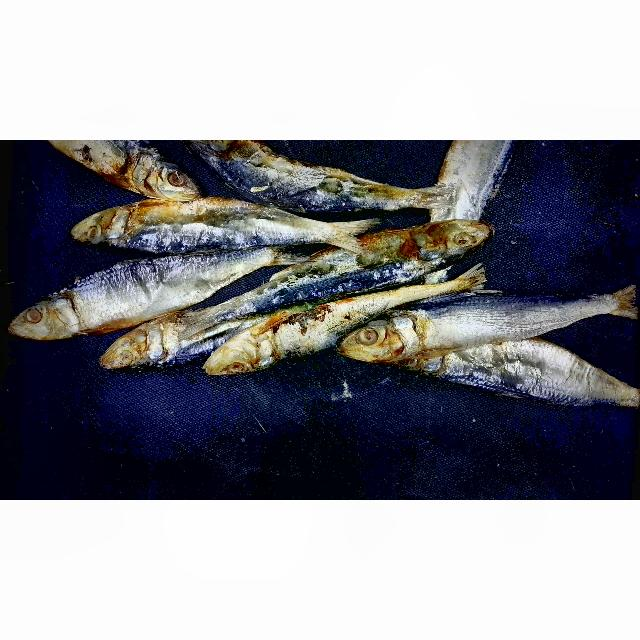Grade_B_Body: (252, 224, 414, 316), (452, 325, 584, 407), (83, 252, 229, 323), (233, 140, 364, 219), (278, 289, 419, 351), (421, 290, 572, 347), (157, 193, 280, 247)
Grade_B_Head: (9, 282, 89, 363), (194, 320, 286, 379), (63, 197, 142, 259), (331, 310, 409, 371), (99, 321, 178, 381), (131, 143, 199, 206), (419, 211, 498, 263)
Grade_B_Tail: (514, 265, 640, 328), (258, 190, 376, 253), (357, 161, 462, 223), (219, 231, 304, 277), (393, 263, 495, 297), (583, 355, 640, 415)
